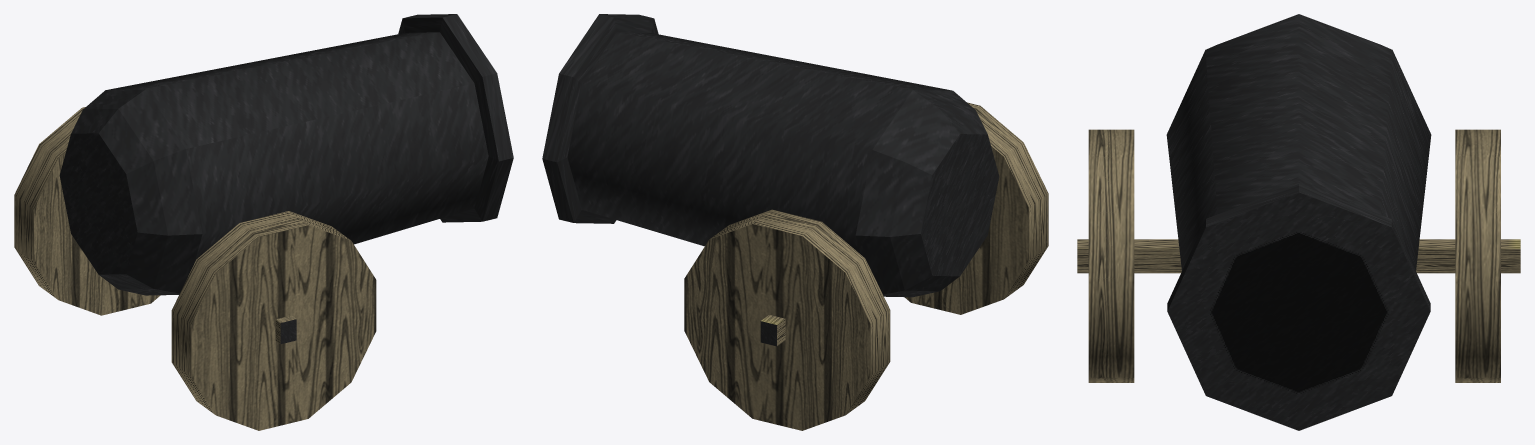
File: Cannon.FBX
The picture shows the model from 3 angles, left to right: view 1: azimuth 30°, elevation 25°; view 2: azimuth 150°, elevation 25°; view 3: azimuth 270°, elevation 25°; orthographic projection. The views are drawn at different scales.
Parts seen in each view (by area): view 1: CannonBarrel, CannonBase; view 2: CannonBarrel, CannonBase; view 3: CannonBarrel, CannonBase.
Boxes of the visible parts, bbox=[...] form: CannonBarrel: bbox=[59, 14, 513, 295]; CannonBase: bbox=[14, 107, 376, 430]; CannonBarrel: bbox=[542, 14, 999, 297]; CannonBase: bbox=[684, 102, 1048, 430]; CannonBarrel: bbox=[1166, 14, 1431, 430]; CannonBase: bbox=[1077, 129, 1520, 382].
Bounding box in the file's own units: 2.45 × 1.83 × 2.25.
